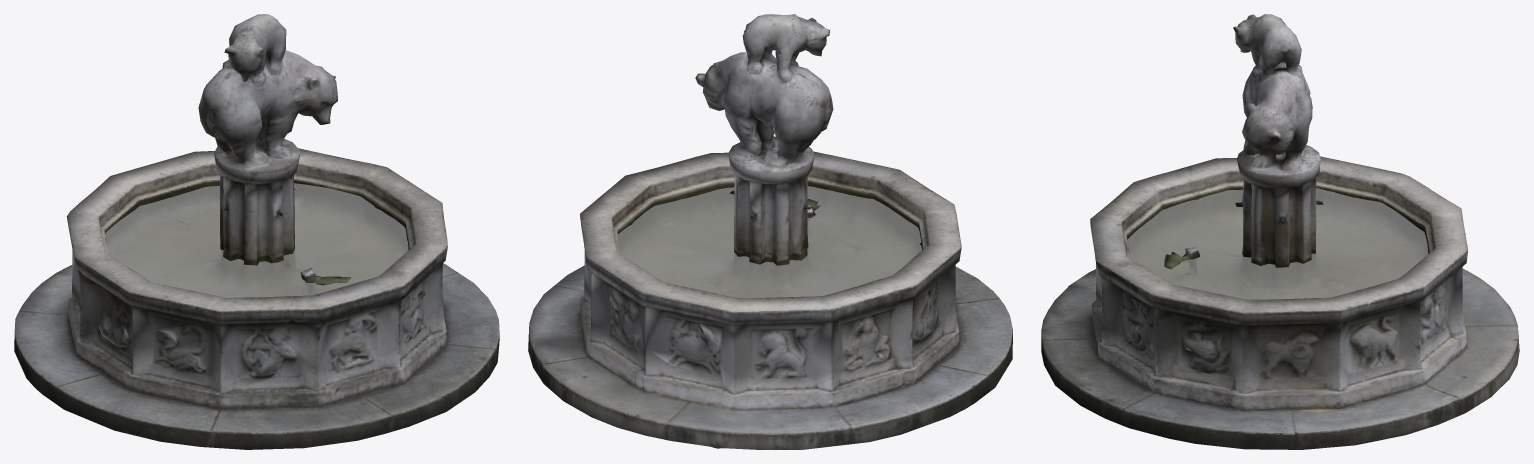
File: fountain.glb
The picture shows the model from 3 angles, left to right: view 1: azimuth 30°, elevation 25°; view 2: azimuth 150°, elevation 25°; view 3: azimuth 270°, elevation 25°; orthographic projection.
Visible parts, largest first — view 1: Fountain, Fountain_Water; view 2: Fountain, Fountain_Water; view 3: Fountain, Fountain_Water.
Boxes of the visible parts, bbox=[...] form: Fountain: bbox=[14, 14, 499, 449]; Fountain_Water: bbox=[105, 183, 408, 297]; Fountain: bbox=[528, 14, 1012, 449]; Fountain_Water: bbox=[617, 186, 922, 298]; Fountain: bbox=[1041, 14, 1519, 449]; Fountain_Water: bbox=[1127, 188, 1428, 299].
Bounding box in the file's own units: 2.98 × 2.26 × 2.99.
2 materials, 1 textured.
